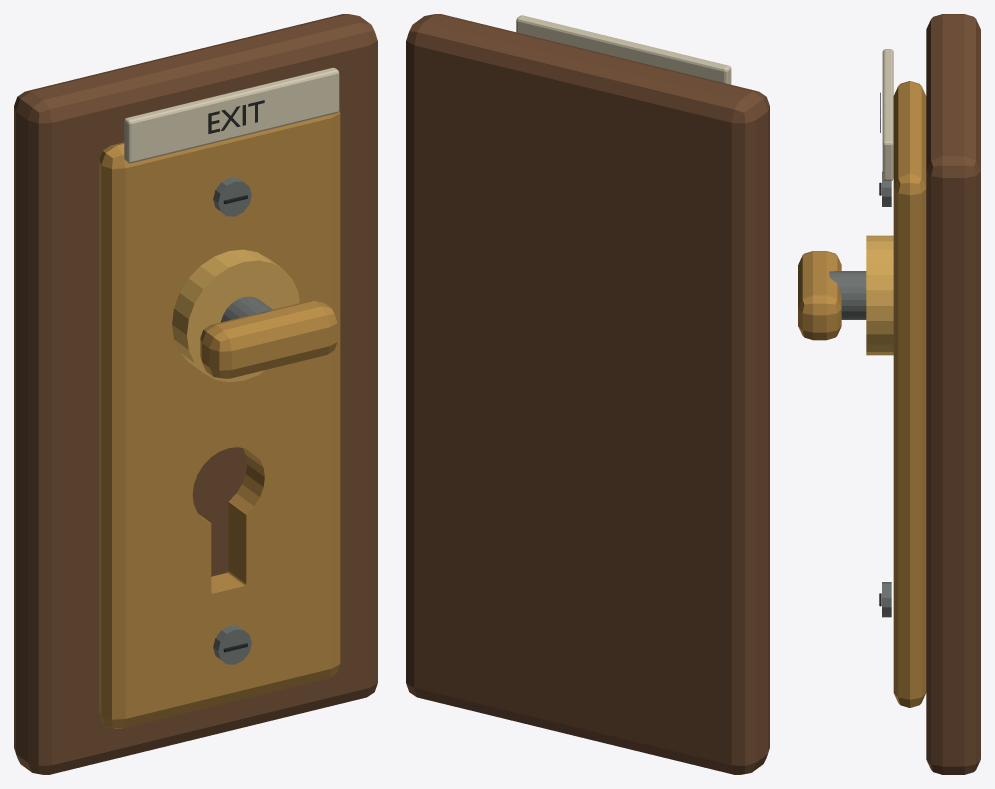
Rendered from ExitDoorLock.glb.
3 views of the same model, side by side, from view 1: azimuth 30°, elevation 25°; view 2: azimuth 150°, elevation 25°; view 3: azimuth 270°, elevation 25° (orthographic). The views are drawn at different scales.
Visible parts, largest first — view 1: BrassEscutcheon, OakMount, LockLabel, TurnKnob, TurnKnobBezel, SlottedScrew.005, SlottedScrew.004, TurnKnobStem; view 2: OakMount, LockLabel; view 3: OakMount, BrassEscutcheon, TurnKnob, TurnKnobBezel, LockLabel, TurnKnobStem, SlottedScrew.004.
Boxes of the visible parts, x1,y1,x2,y2 form: BrassEscutcheon: [99, 111, 340, 728]; OakMount: [14, 14, 377, 774]; LockLabel: [124, 67, 339, 163]; TurnKnob: [200, 301, 337, 378]; TurnKnobBezel: [172, 249, 299, 382]; SlottedScrew.005: [213, 177, 251, 216]; SlottedScrew.004: [213, 625, 251, 664]; TurnKnobStem: [221, 296, 272, 322]; OakMount: [406, 14, 769, 774]; LockLabel: [516, 15, 731, 84]; OakMount: [926, 14, 980, 774]; BrassEscutcheon: [893, 81, 926, 707]; TurnKnob: [798, 251, 841, 340]; TurnKnobBezel: [866, 235, 893, 355]; LockLabel: [882, 49, 893, 180]; TurnKnobStem: [829, 271, 866, 319]; SlottedScrew.004: [882, 582, 891, 617].
Bounding box in the file's own units: 1.35 × 2.5 × 0.67.
